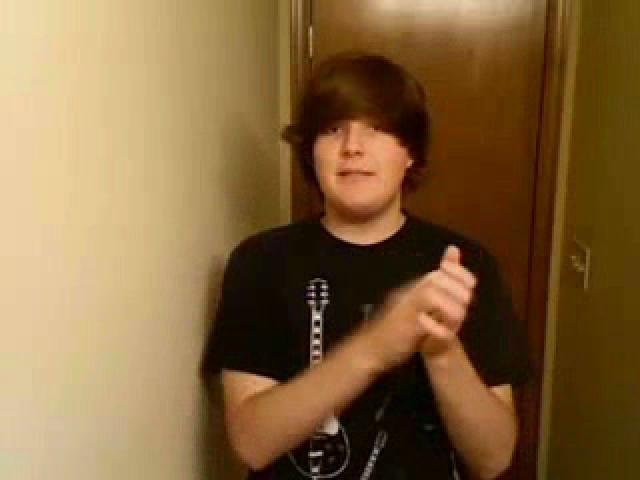F: (231, 66, 497, 480)
